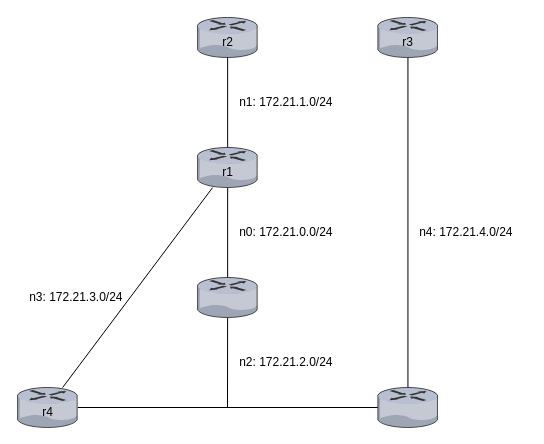
Image size: 544x444. Some labels were removed from this diagram. Here are the shapes that lost their labels. From the top down, the box of each, then its label:
(197, 277, 257, 317): r0
(377, 387, 438, 427): r5
